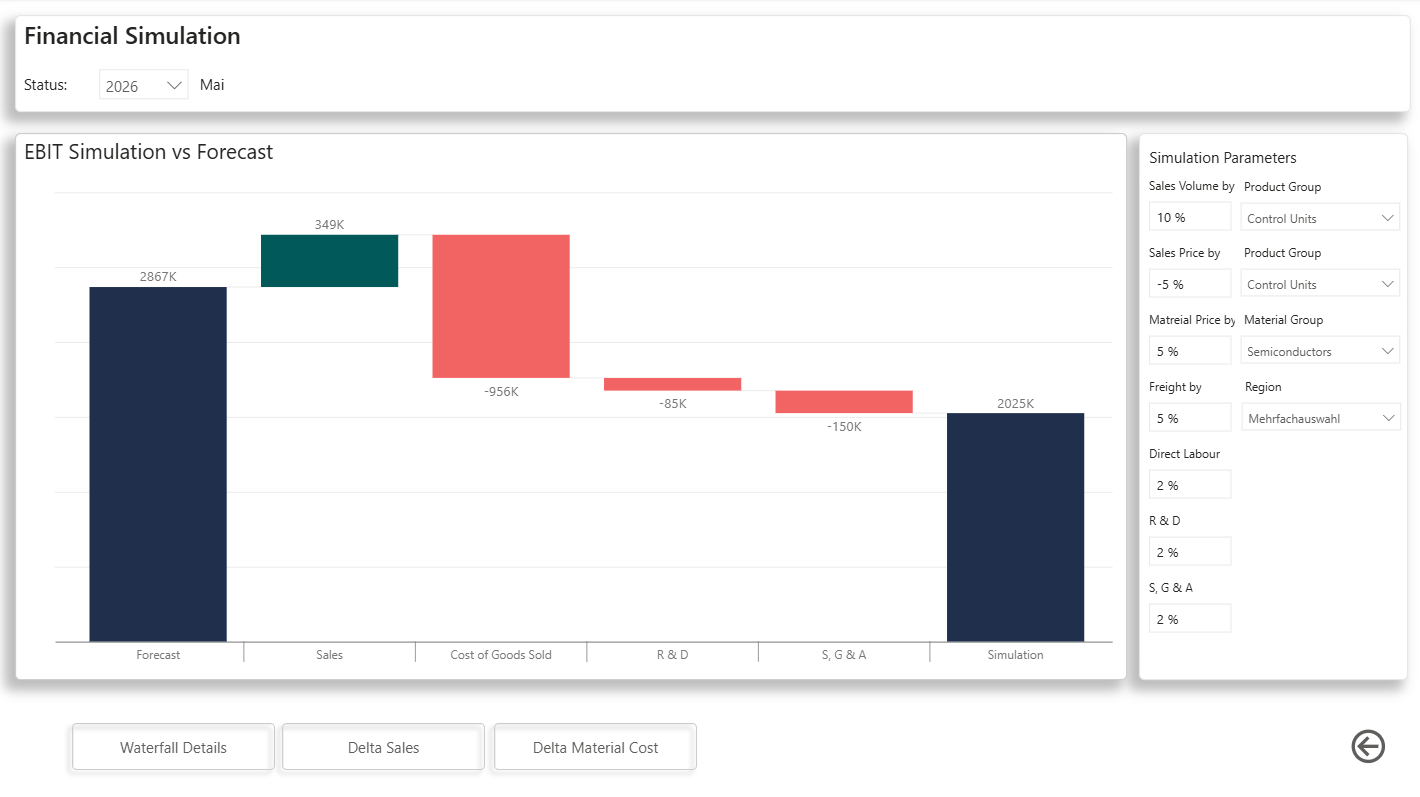

The dashboard page shown, as its layout file describes it:
{"tool":"powerbi","page":{"name":"Simulation","canvas":[1280,720],"ordinal":4},"visuals":[{"type":"shape","title":"Box Parameters","box":[1021.8,120.7,241.5,489.8],"z":0},{"type":"textbox","title":"Financial Simulation","box":[15,15,1249.9,87.1],"z":2000},{"type":"cardVisual","title":"Card Month","fields":{"Data":["fact_calculated.Last Actual Month Name"]},"box":[165.5,53.8,110,45],"z":3000},{"type":"slicer","title":"Slicer Year","fields":{"Values":["dim_date2.Date Hierarchie.Year"]},"box":[80.5,53.8,100,45],"z":4000},{"type":"actionButton","title":"Waterfall Details","box":[57.1,640,199.7,60.1],"z":5000},{"type":"actionButton","title":"Delta Sales by PG","box":[245.6,640,199.7,60.1],"z":6000},{"type":"actionButton","title":"Delta Material Cost","box":[435.2,640,199.7,60.1],"z":7000},{"type":"actionButton","title":"Zurück","box":[1207,650,40,40.2],"z":8000},{"type":"slicer","title":"Slicer % 1","fields":{"Values":["P_SalesVolume.P_SalesVolume"]},"box":[1022.7,160,163.1,69.1],"z":9000},{"type":"slicer","title":"Slicer Product Group1","fields":{"Values":["P_ProductGroup2.Product_Group"]},"box":[1108,161,153,69.1],"z":10000},{"type":"textbox","title":"Text Simulation Parameters","box":[1026,128.5,150.1,32.4],"z":11000},{"type":"slicer","title":"Slicer % 2","fields":{"Values":["P_SalesPrice.P_SalesPrice"]},"box":[1022.6,220,163.1,69.1],"z":12000},{"type":"slicer","title":"Slicer Product Group2","fields":{"Values":["P_ProductGroup.Product_Group"]},"box":[1108,220,153,69.1],"z":13000},{"type":"slicer","title":"Slicer % 3","fields":{"Values":["P_MaterialPrice.P_MaterialPrice"]},"box":[1022.7,280,163.1,69.1],"z":14000},{"type":"slicer","title":"Slicer Material Group","fields":{"Values":["P_MaterialGroup.Material_Group"]},"box":[1108,280,153,69.1],"z":15000},{"type":"slicer","title":"Slicer % 4","fields":{"Values":["P_FreightInbound.P_FreightInbound"]},"box":[1022.7,340,163.1,69.1],"z":16000},{"type":"slicer","title":"Slicer Region","fields":{"Values":["P_VendorCountry.Primary_Vendor_Country"]},"box":[1108.3,340,153,69.3],"z":17000},{"type":"slicer","title":"Slicer % 5","fields":{"Values":["P_DirectLabour.P_DirectLabour"]},"box":[1022.7,400,163.1,69.1],"z":18000},{"type":"slicer","title":"Slicer % 6","fields":{"Values":["P_R&D.P_R&D"]},"box":[1022.9,460,163.1,69.1],"z":19000},{"type":"slicer","title":"Slicer % 7","fields":{"Values":["P_SG&A.P_SG&A"]},"box":[1022.9,520,163.1,69.1],"z":20000},{"type":"SimpleWaterfall","title":"EBIT Simulation vs Forecast","fields":{"category":["helper_Waterfall3Bridge.Bridge_Component"],"measure":["Metrics.mWaterfall3BridgeValue"]},"box":[15.1,121,995.9,490.4],"z":21000}]}

Visuals, with their boxes in screenshot pixels (x1, y1, x2, y2), scaled from the page's 1280x720 canvas onto the 1420x797 screenshot:
"Box Parameters" shape: crop(1134, 134, 1401, 676)
"Financial Simulation" textbox: crop(17, 17, 1403, 113)
"Card Month" cardVisual: crop(184, 60, 306, 109)
"Slicer Year" slicer: crop(89, 60, 200, 109)
"Waterfall Details" actionButton: crop(63, 708, 285, 775)
"Delta Sales by PG" actionButton: crop(272, 708, 494, 775)
"Delta Material Cost" actionButton: crop(483, 708, 704, 775)
"Zurück" actionButton: crop(1339, 720, 1383, 764)
"Slicer % 1" slicer: crop(1135, 177, 1315, 254)
"Slicer Product Group1" slicer: crop(1229, 178, 1399, 255)
"Text Simulation Parameters" textbox: crop(1138, 142, 1305, 178)
"Slicer % 2" slicer: crop(1134, 244, 1315, 320)
"Slicer Product Group2" slicer: crop(1229, 244, 1399, 320)
"Slicer % 3" slicer: crop(1135, 310, 1315, 386)
"Slicer Material Group" slicer: crop(1229, 310, 1399, 386)
"Slicer % 4" slicer: crop(1135, 376, 1315, 453)
"Slicer Region" slicer: crop(1230, 376, 1399, 453)
"Slicer % 5" slicer: crop(1135, 443, 1315, 519)
"Slicer % 6" slicer: crop(1135, 509, 1316, 586)
"Slicer % 7" slicer: crop(1135, 576, 1316, 652)
"EBIT Simulation vs Forecast" SimpleWaterfall: crop(17, 134, 1122, 677)
